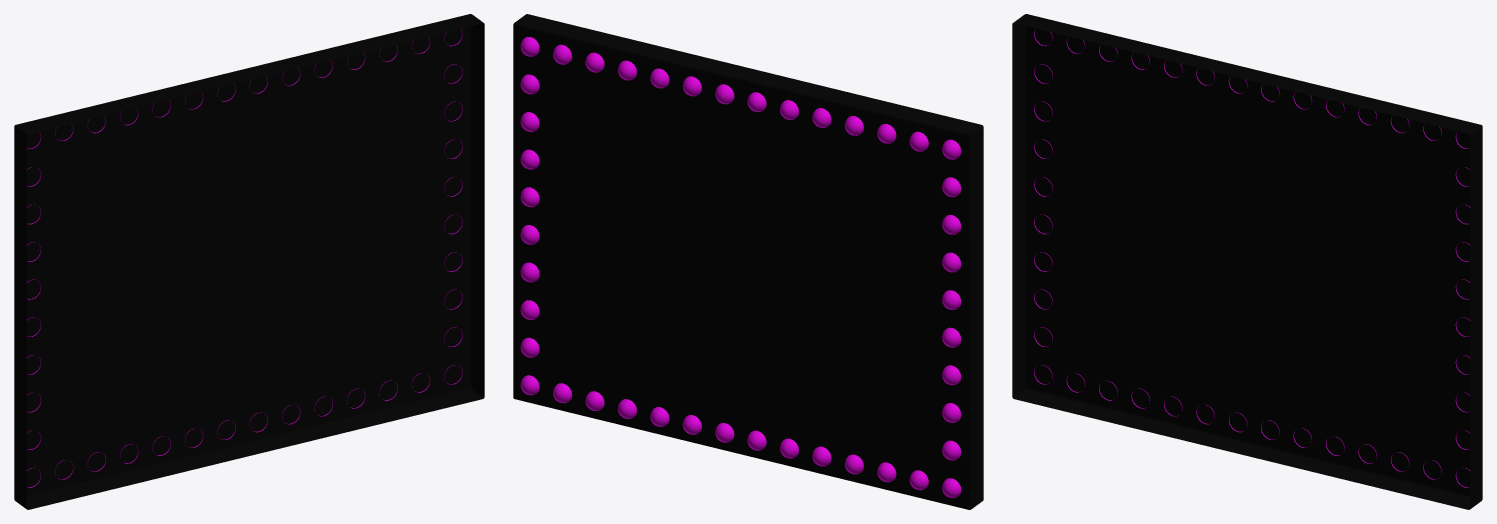
Rendered from FlyingArrow_ScoreBoard.fbx.
The picture shows the model from 3 angles, left to right: view 1: azimuth 30°, elevation 25°; view 2: azimuth 150°, elevation 25°; view 3: azimuth 330°, elevation 25°; orthographic projection.
Parts seen in each view (by area): view 1: FlyingArrow_ScoreBoard; view 2: FlyingArrow_ScoreBoard; view 3: FlyingArrow_ScoreBoard.
Part boxes in pixels (x1,y1,x2,y2): FlyingArrow_ScoreBoard: (14, 14, 484, 509); FlyingArrow_ScoreBoard: (513, 14, 983, 509); FlyingArrow_ScoreBoard: (1012, 14, 1482, 509).
Bounding box in the file's own units: 154 × 121 × 10.61.
